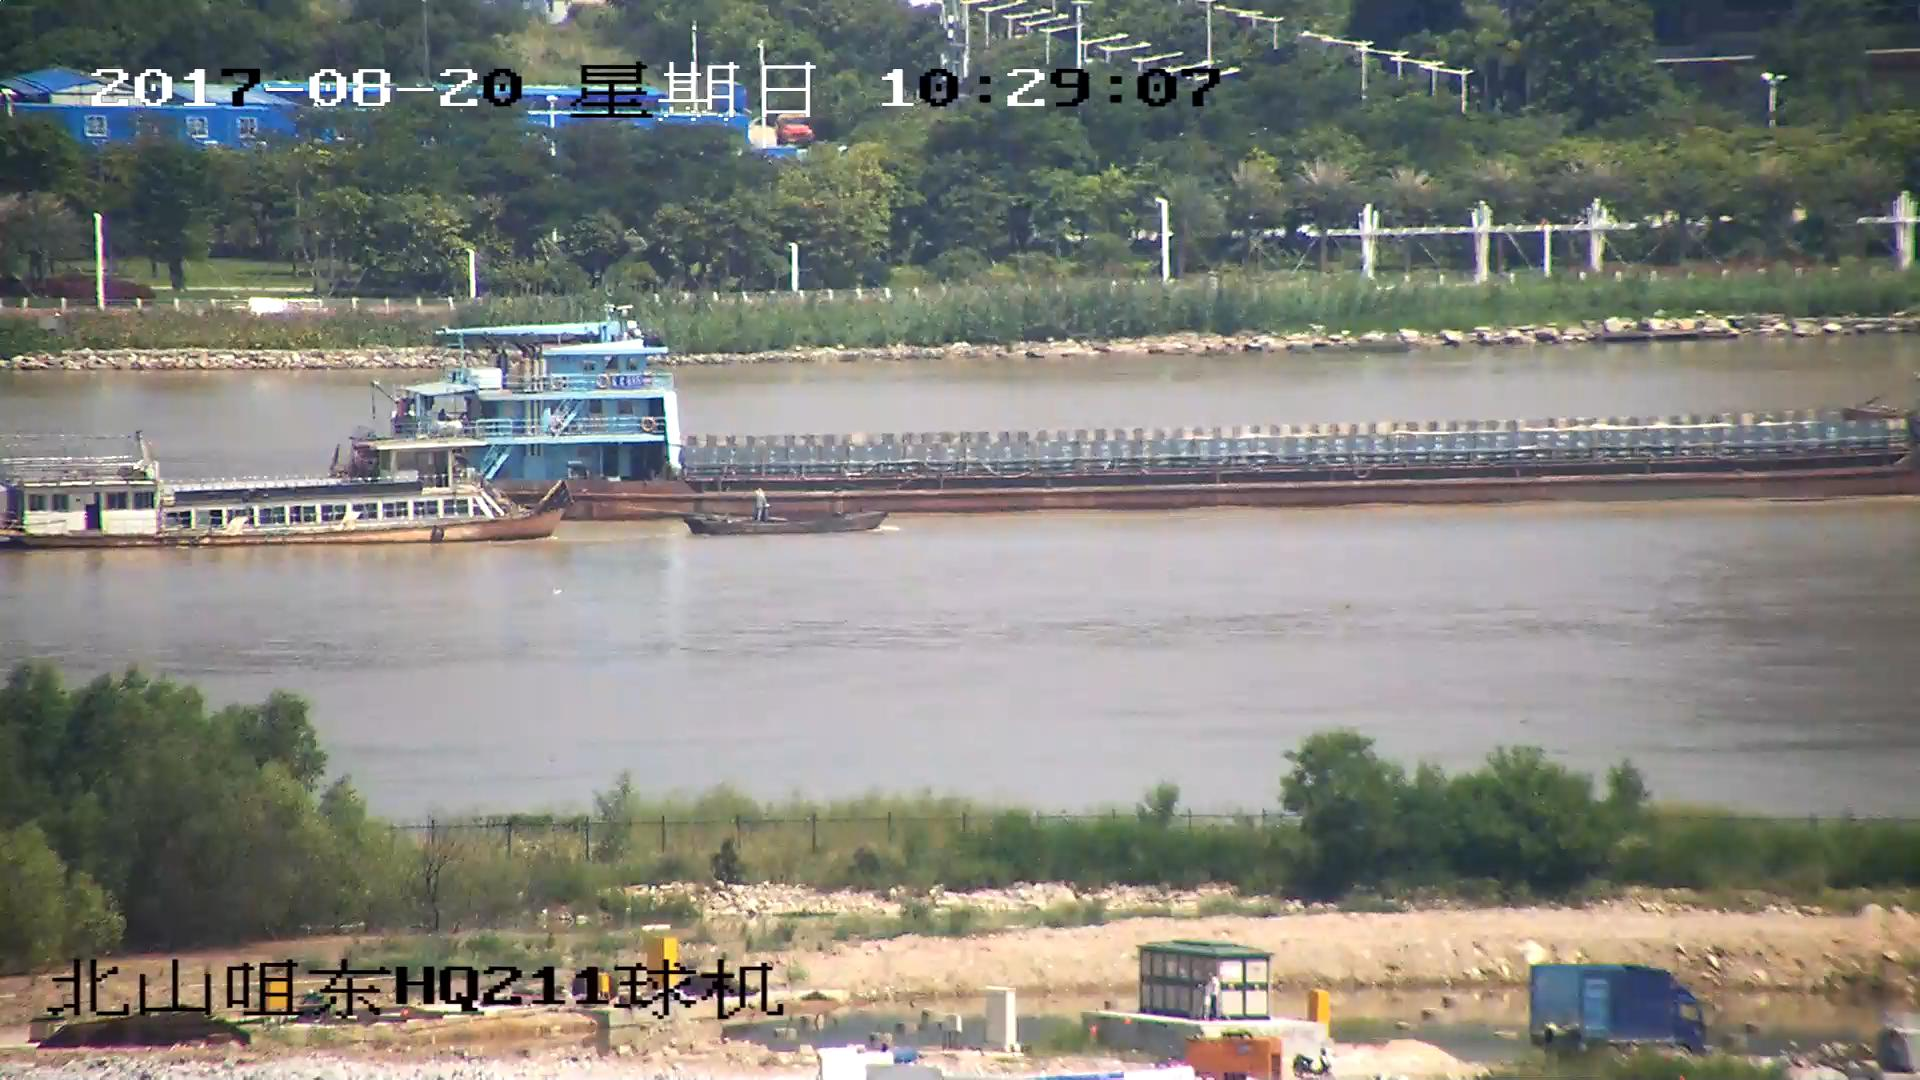fishing boat: (1, 436, 576, 552), (687, 491, 889, 541)
ore carrier: (316, 327, 1920, 509)
